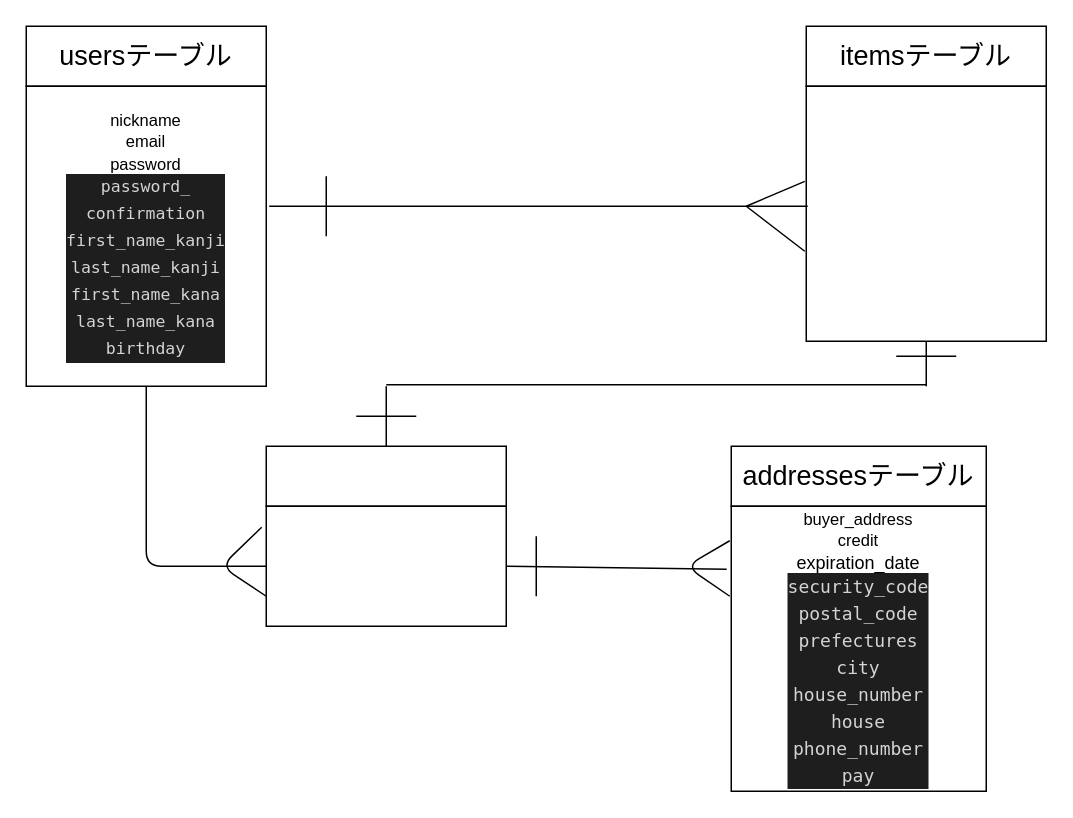
The diagram is 1073 pixels wide and 818 high, and some of its shapes have lost their labels. The centre of each missing label's shape, as x and y in pixels:
"name text detail delivery_burden shipper days price category user" goes at pixel 925 213.
"paysテーブル" goes at pixel 385 475.
"user item" goes at pixel 385 565.
